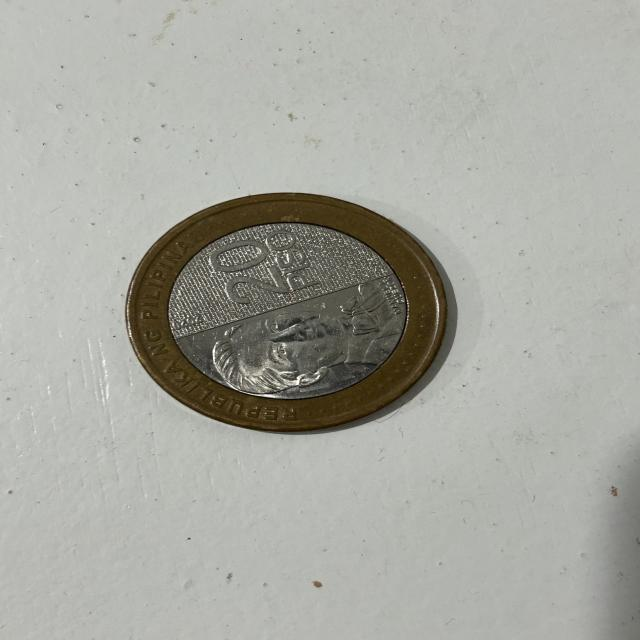20_New_Front: (202, 233, 335, 303)
